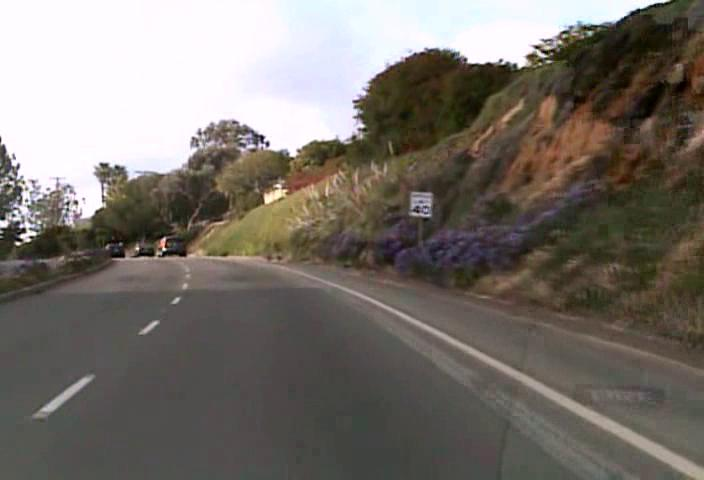speedLimit40: (408, 189, 433, 218)
